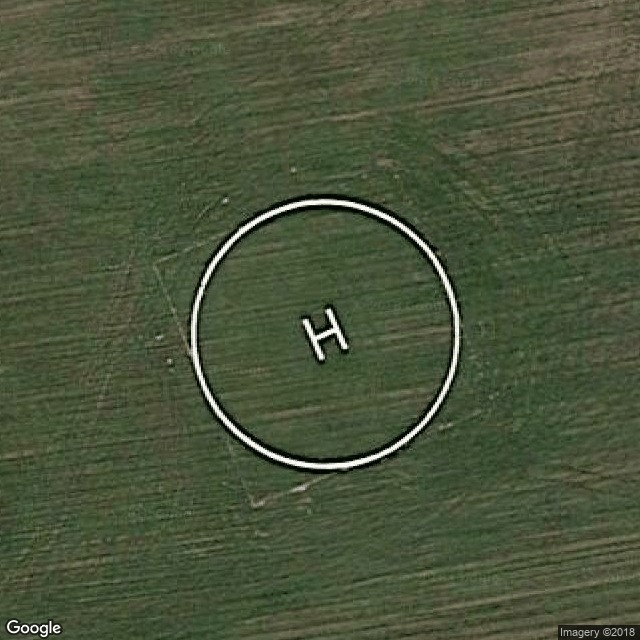heliport: (292, 301, 352, 365)
